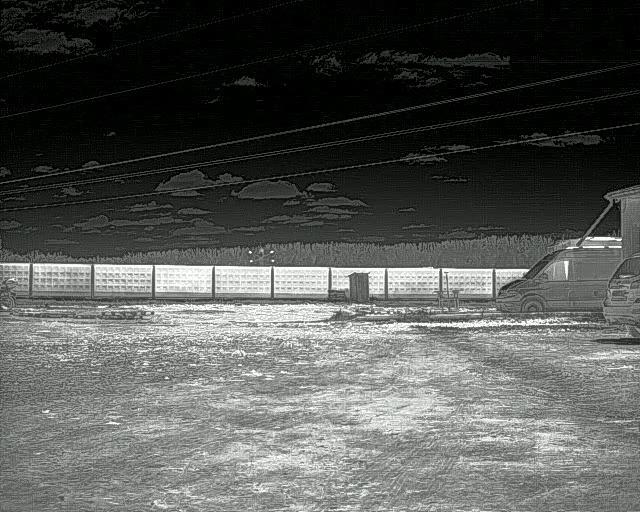drone-thermal: (248, 246, 277, 265)
